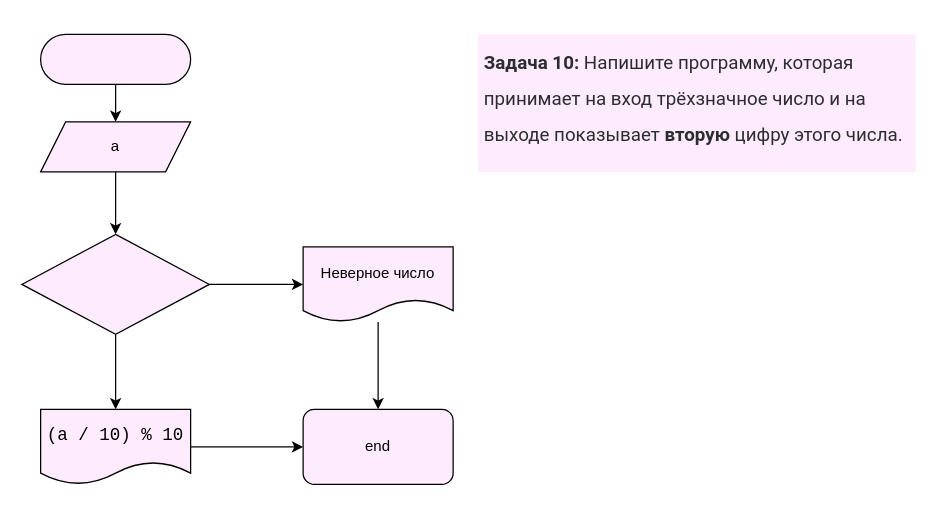
This 938x506 diagram has some shape labels left out. The box of each missing label's shape, as (x1, y1, x2, y2) in pixels:
100 <= a <= 999: (21, 233, 209, 334)
start: (39, 33, 191, 84)
